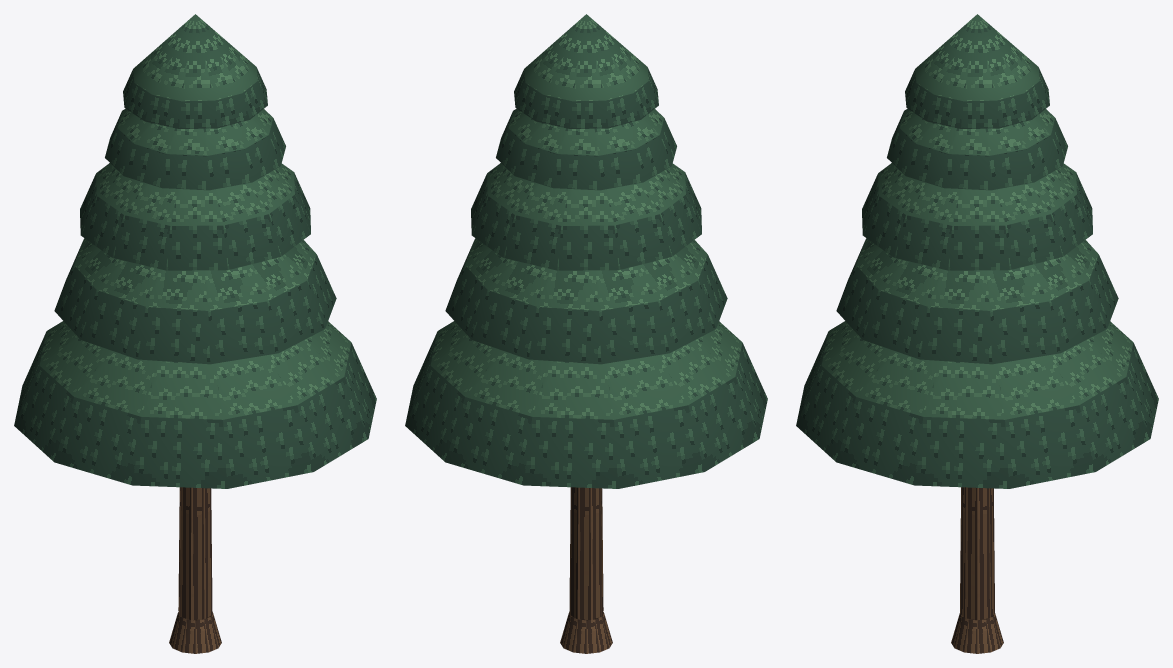
File: pine_6.glb
The picture shows the model from 3 angles, left to right: view 1: azimuth 30°, elevation 25°; view 2: azimuth 150°, elevation 25°; view 3: azimuth 270°, elevation 25°; orthographic projection.
Visible parts, largest first — view 1: pine_7; view 2: pine_7; view 3: pine_7.
Boxes of the visible parts, left/top/right/bottom form: pine_7: left=14, top=14, right=376, bottom=653; pine_7: left=405, top=14, right=767, bottom=653; pine_7: left=796, top=14, right=1158, bottom=653.
Bounding box in the file's own units: 2.75 × 5.26 × 2.75.
3 materials, 3 textured.
